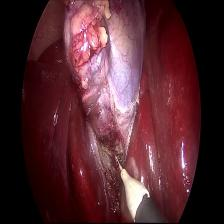Hook: (112, 154, 155, 218)
